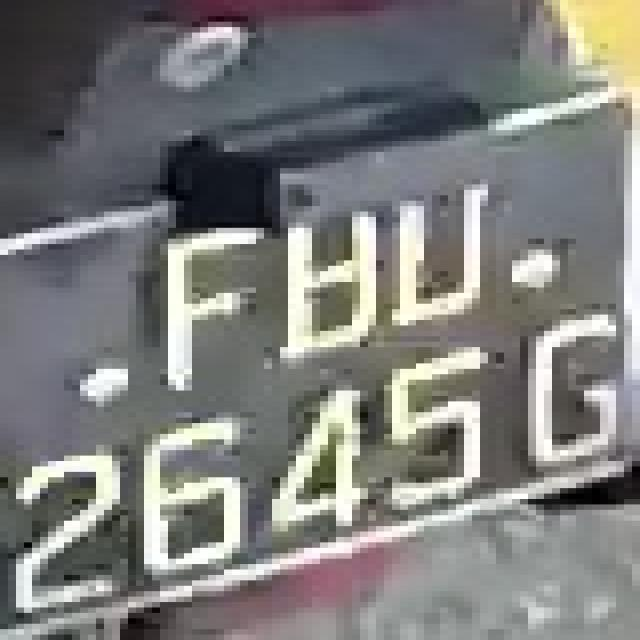2: (8, 434, 128, 618)
4: (256, 380, 376, 548)
5: (368, 347, 496, 532)
6: (128, 412, 272, 575)
B: (272, 184, 400, 369)
D: (384, 163, 536, 336)
F: (136, 212, 272, 374)
G: (504, 309, 624, 483)
